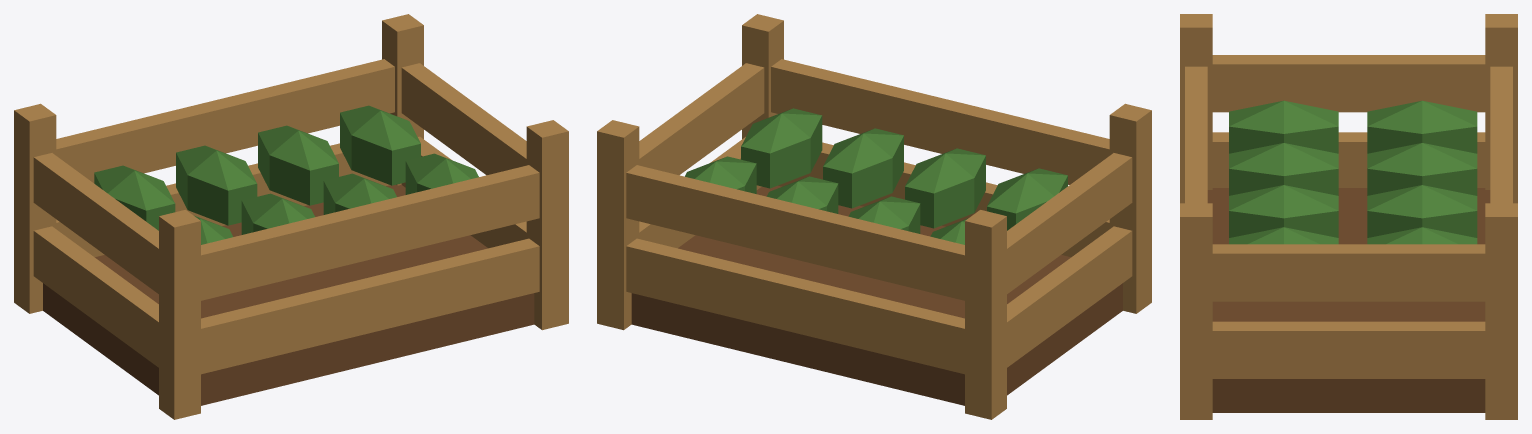
Rendered from VegetableCrate.obj.
3 views of the same model, side by side, from view 1: azimuth 30°, elevation 25°; view 2: azimuth 150°, elevation 25°; view 3: azimuth 270°, elevation 25° (orthographic). The views are drawn at different scales.
Visible parts, largest first — view 1: VegetableCrate; view 2: VegetableCrate; view 3: VegetableCrate.
Part boxes in pixels (left/top/right/bottom): VegetableCrate: left=14, top=14, right=568, bottom=419; VegetableCrate: left=597, top=14, right=1151, bottom=419; VegetableCrate: left=1180, top=14, right=1517, bottom=419.
Bounding box in the file's own units: 1.18 × 0.55 × 0.83.
